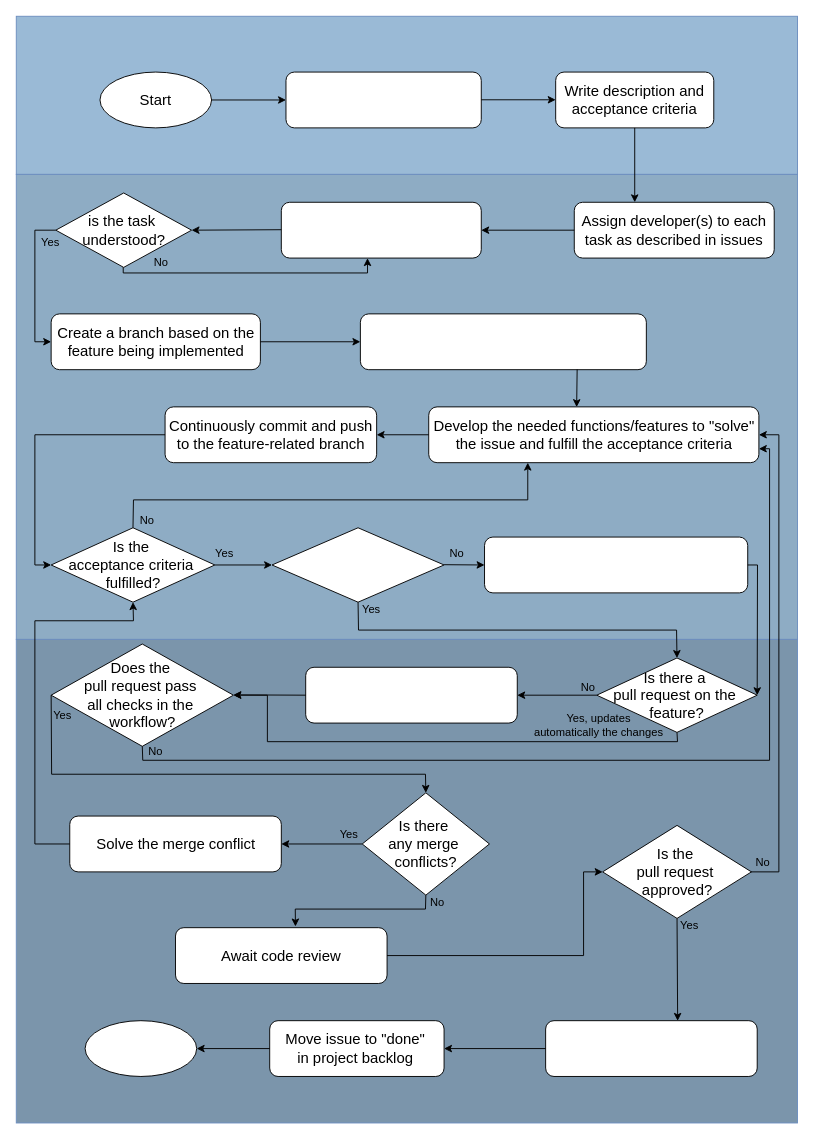
Some shapes in this 814 by 1139 pixel diagram are drawn without their labels. Here are the shapes that lost their labels. From the top down, the centre of each, then its label:
point 383,99: Create new issue on Github in the project backlog
point 380,229: Read/research on how to implement feature
point 502,341: Move issue to "In progress" in the project, indicating which issues is worked on
point 357,564: Is the branch up to date with main?
point 616,564: Merge "new" main into branch before merging new feature into main
point 411,694: Create a pull request for the feature in the project backlog
point 140,1048: End
point 651,1048: Merge into main and delete feature branch
